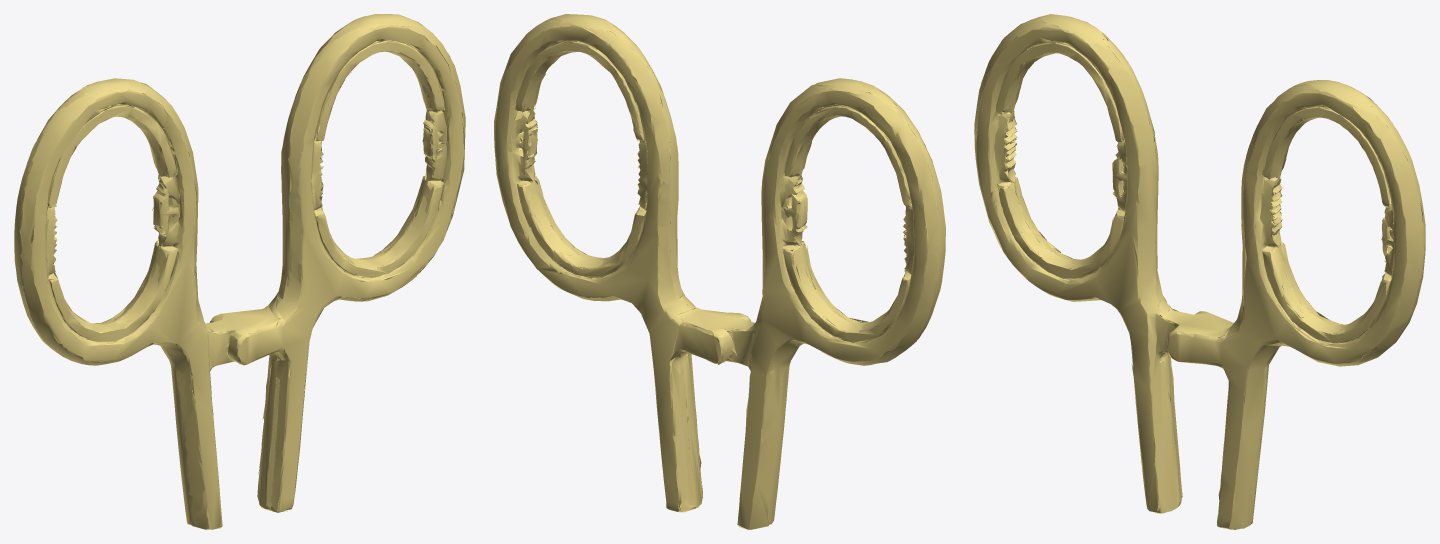
The model's file is equip_plasti_microsurgical_need.glb.
The picture shows the model from 3 angles, left to right: view 1: azimuth 30°, elevation 25°; view 2: azimuth 150°, elevation 25°; view 3: azimuth 330°, elevation 25°; orthographic projection.
Visible parts, largest first — view 1: world; view 2: world; view 3: world.
Part boxes in pixels (x1,y1,x2,y2): world: (14,14,465,529); world: (494,14,945,529); world: (974,14,1425,529).
Size of the model in its own units: 0.1202 by 0.1188 by 0.0145.
